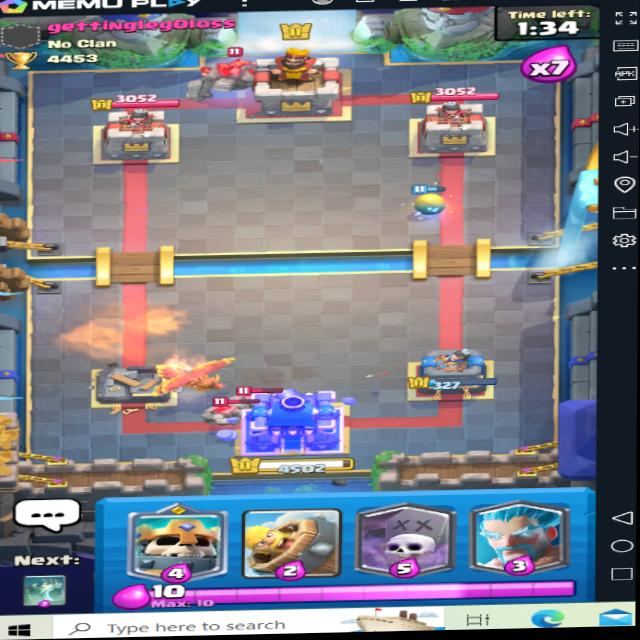golem: (191, 49, 279, 104), (200, 389, 257, 428)
